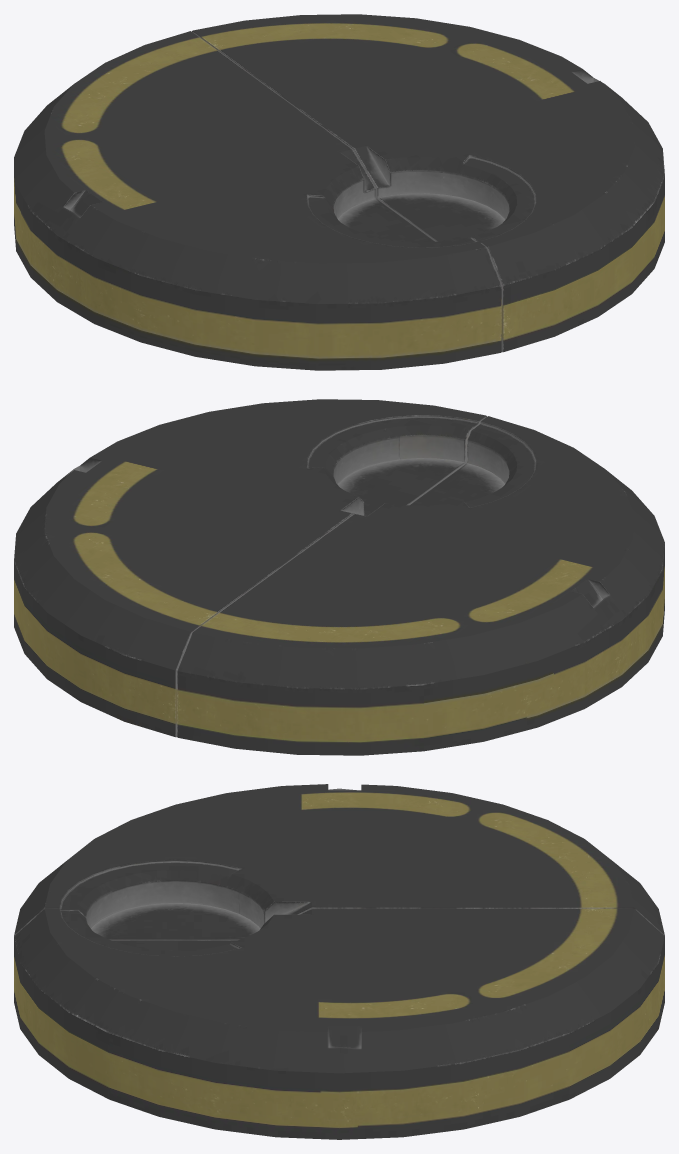
File: cy005-opt.glb
3 views of the same model, one above another, from view 1: azimuth 30°, elevation 25°; view 2: azimuth 150°, elevation 25°; view 3: azimuth 270°, elevation 25° (orthographic).
Parts seen in each view (by area): view 1: Cylinder.005; view 2: Cylinder.005; view 3: Cylinder.005.
Boxes of the visible parts, x1,y1,x2,y2 form: Cylinder.005: (14,14,664,370); Cylinder.005: (14,399,664,755); Cylinder.005: (14,784,664,1139).
Size of the model in its own units: 1.27 by 0.2026 by 1.27.
Materials: 1 (1 with a texture image).
